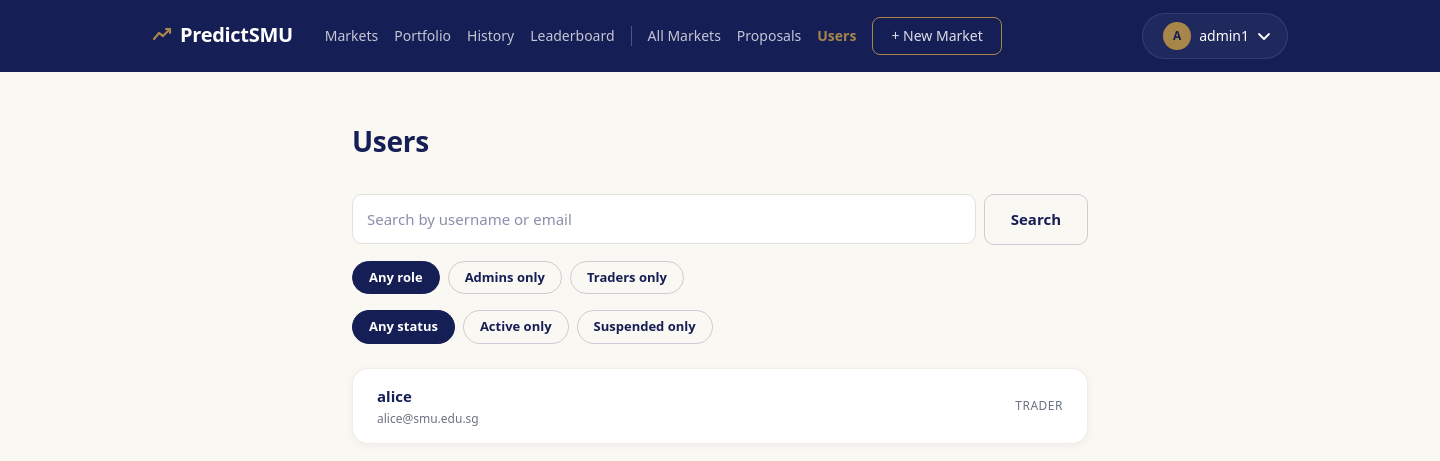
it: AdminUsersPage › shows a message naming the search when nothing matches
Expected: the text "alice" is shown, [377,386,412,406]
Type "nobody" into the search field labelled "Search by username or email" at (664, 219), box [352,194,976,244]
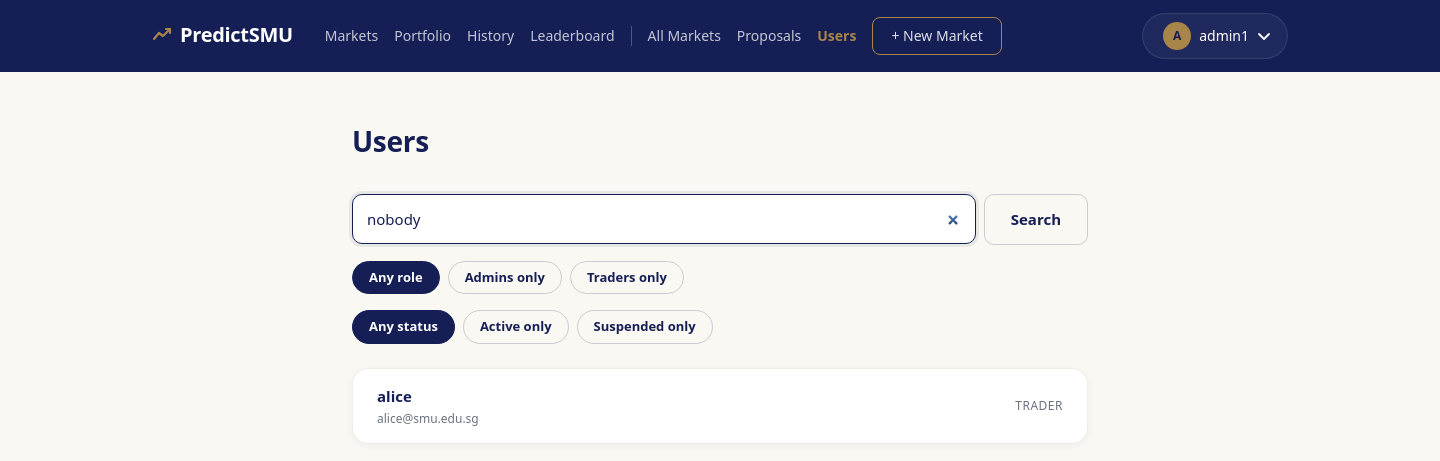
Click the button "Search" at (1036, 219), box [984,194,1088,244]
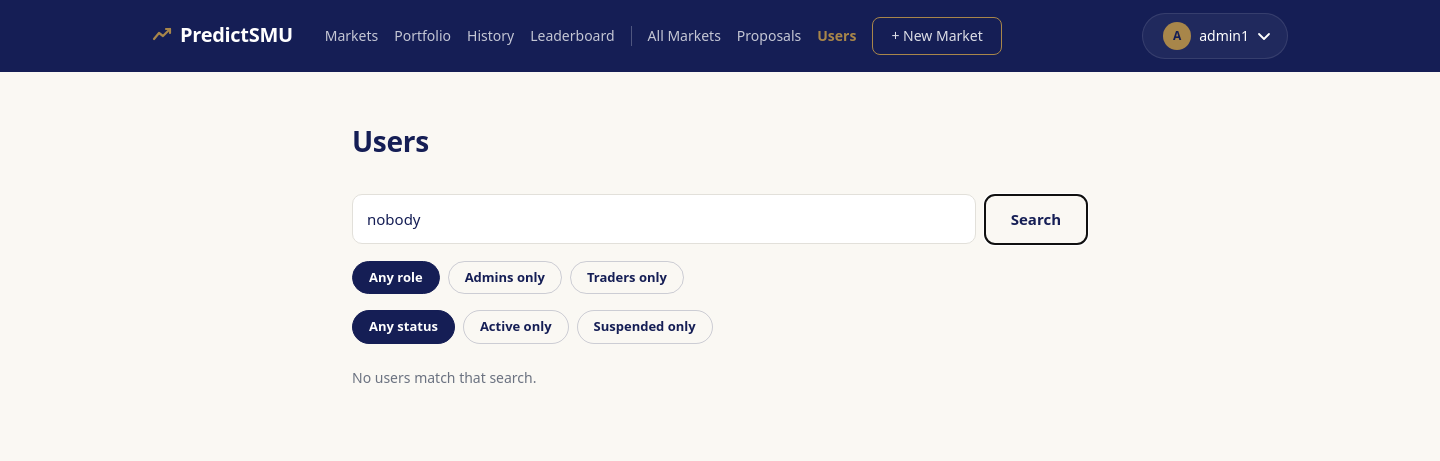
Expected: the text "No users match that search." is shown, [352,368,536,386]
